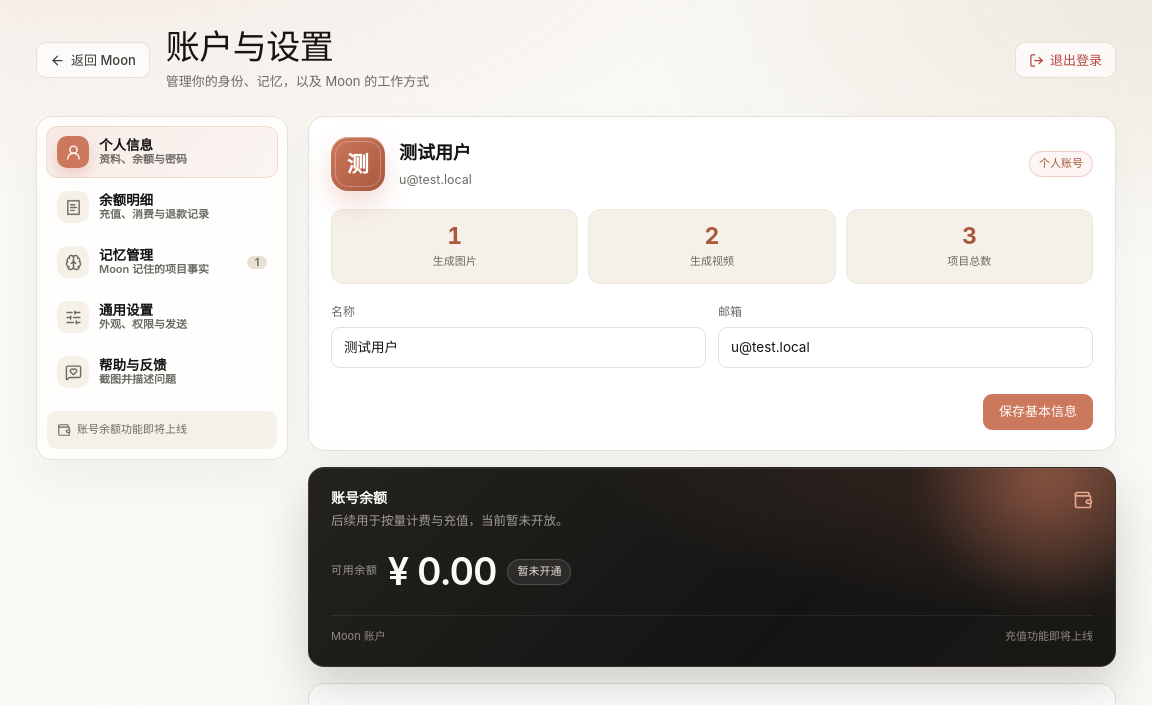
Test: AccountPage 菜单与记忆管理 › 默认展示个人信息分区，并可切换到其他菜单
This screenshot has width=1152, height=705.
expect the heading "测试用户" is shown: met, box [399,142,471,163]
expect the heading "账号余额" is shown: met, box [331,489,387,506]
What coordinates should you click on to do the following:
click the button "余额明细 充值、消费与退款记录"
I would click on:
 (162, 207)
Its box is [46,181,278,233].
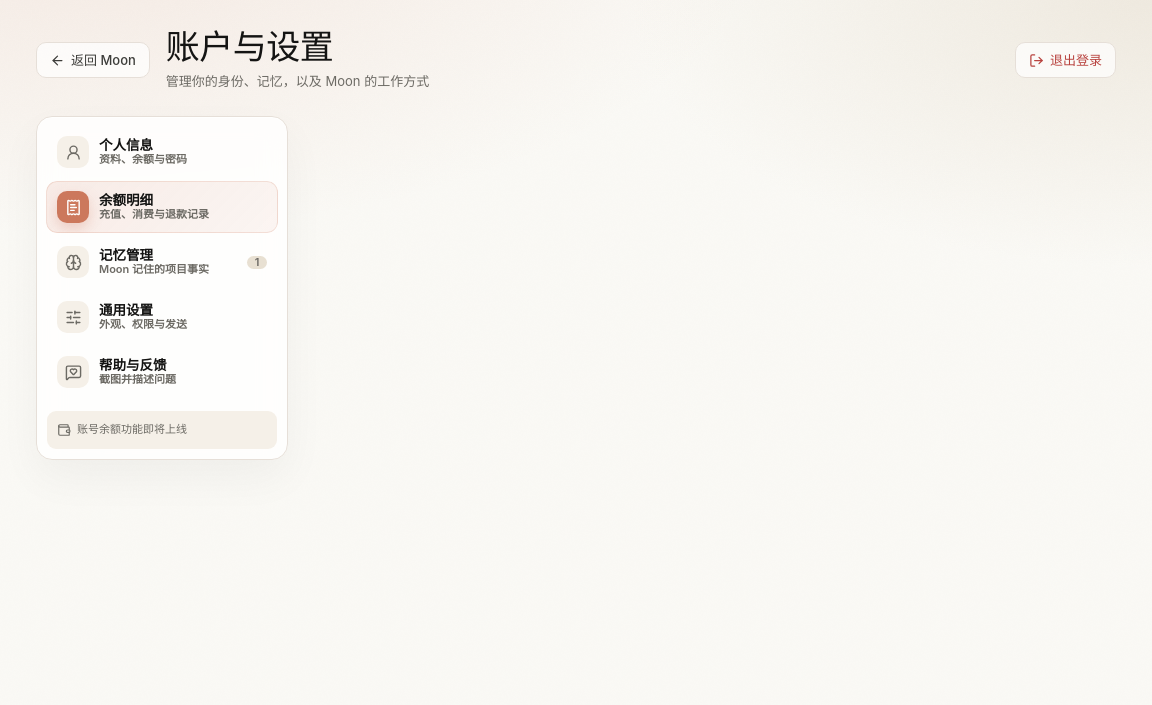
What coordinates should you click on to do the following:
click the button "通用设置 外观、权限与发送"
I would click on:
 (162, 317)
Its box is [46,291,278,343].
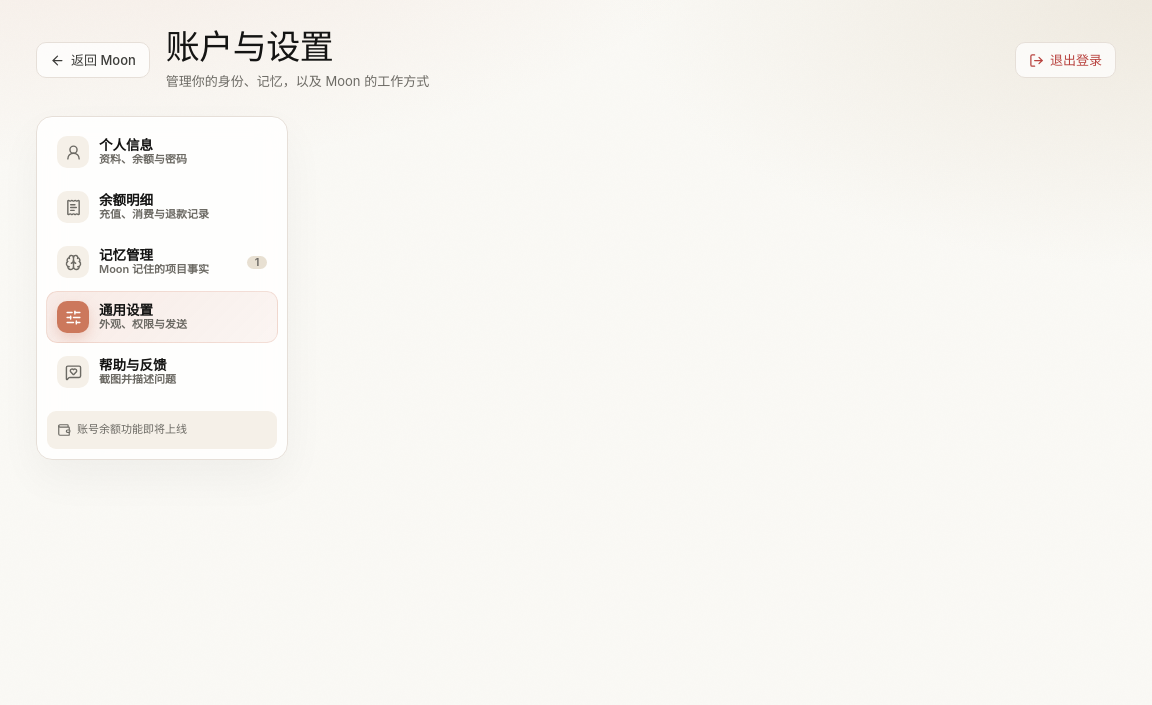
What coordinates should you click on to do the following:
click the button "帮助与反馈 截图并描述问题"
I would click on:
 (162, 372)
Its box is [46,346,278,398].
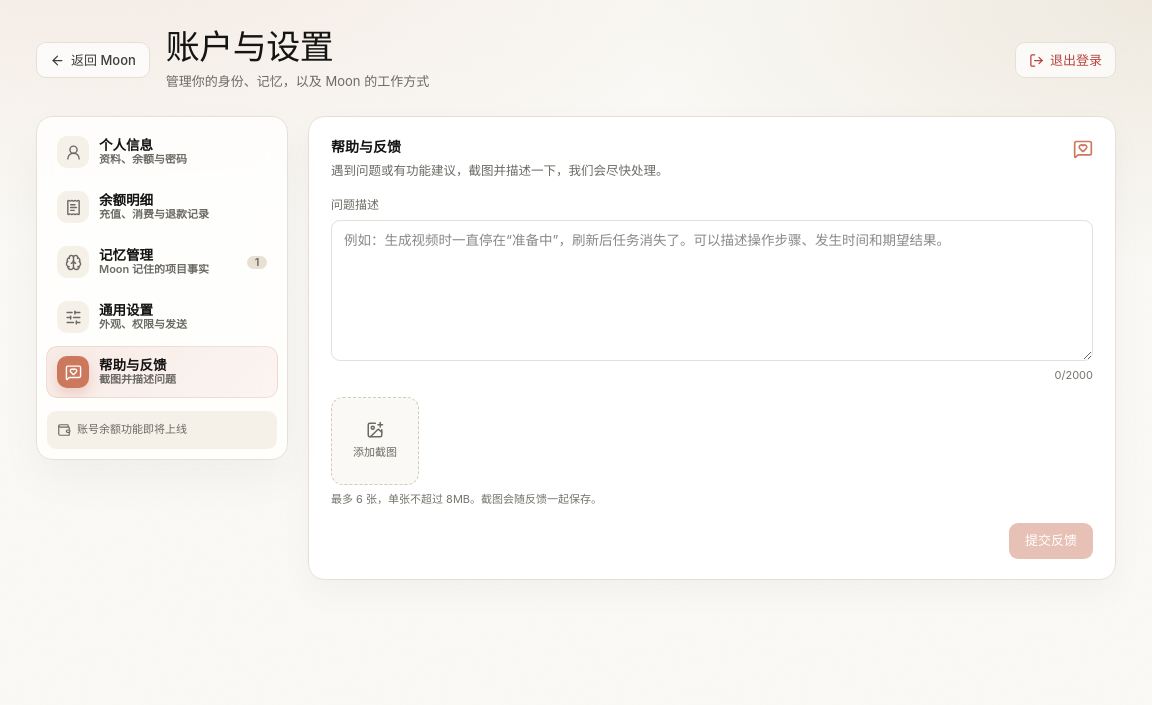
expect the text "遇到问题或有功能建议，截图并描述一下，我们会尽快处理。" is shown: met, box [331,161,668,181]
